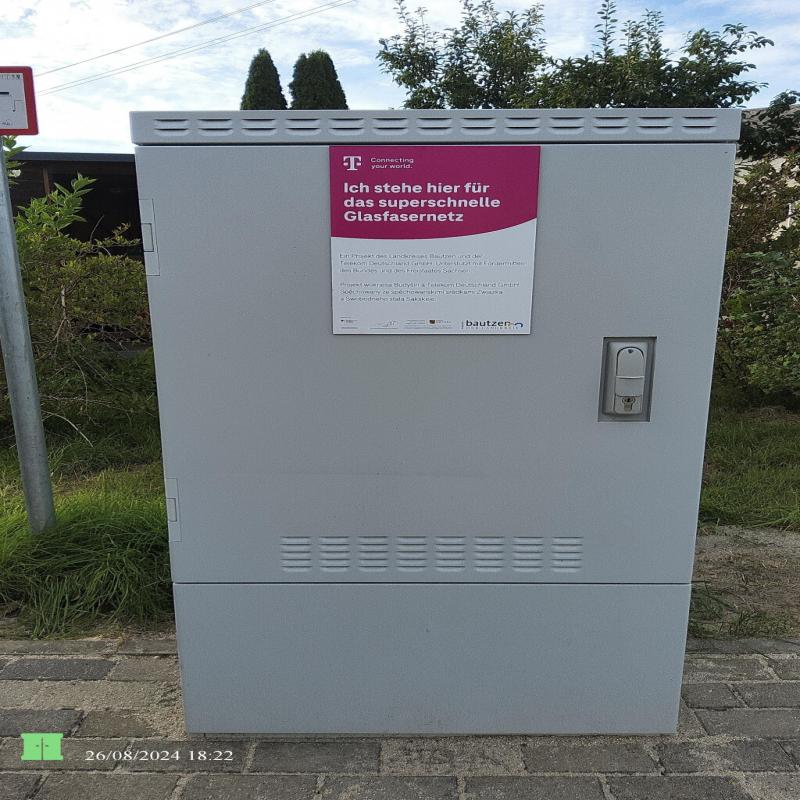NT-Gehause: (131, 110, 738, 743)
Steaker: (331, 142, 535, 337)
